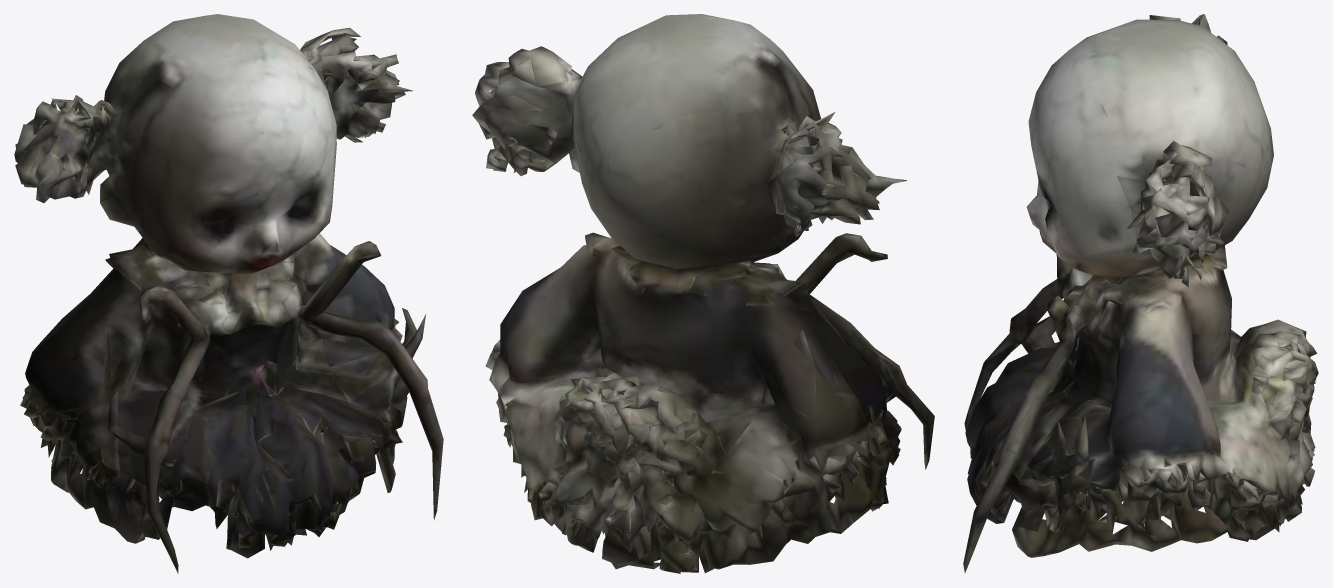
The model's file is spider.glb.
3 renders of one model, left to right at view 1: azimuth 30°, elevation 25°; view 2: azimuth 150°, elevation 25°; view 3: azimuth 270°, elevation 25°, orthographic. The views are drawn at different scales.
Visible parts, largest first — view 1: Object_2; view 2: Object_2; view 3: Object_2.
Part boxes in pixels (x1,y1,x2,y2): Object_2: [14, 14, 443, 573]; Object_2: [472, 14, 934, 573]; Object_2: [963, 14, 1318, 572].
Size of the model in its own units: 1.72 by 1.99 by 1.33.
1 material, 1 textured.
